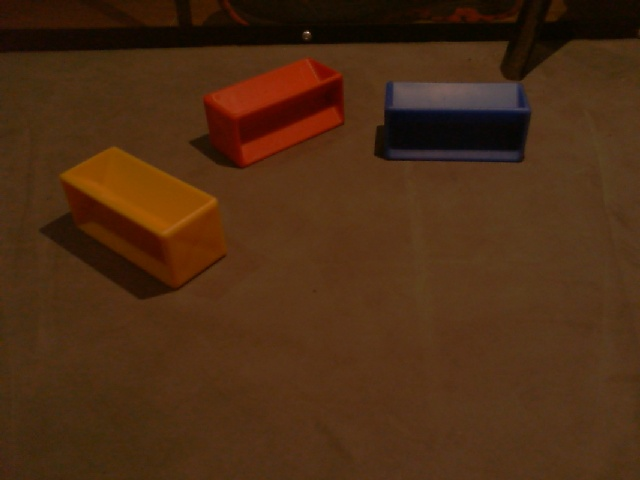BlueSample: (382, 79, 533, 164)
RedSample: (202, 58, 348, 168)
YellowSample: (59, 144, 230, 288)
